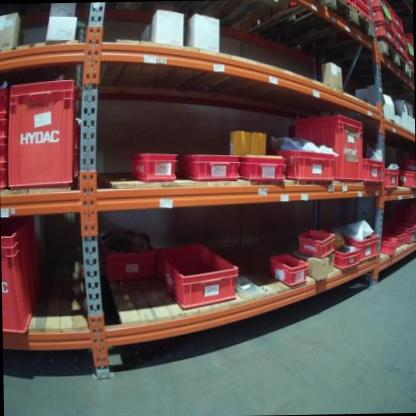pallet: (232, 0, 378, 58), (287, 37, 410, 81), (171, 0, 329, 34), (409, 65, 413, 88)
small_load_carrier: (6, 77, 82, 188), (156, 234, 239, 308), (293, 111, 364, 187), (1, 211, 43, 335), (99, 226, 161, 284), (274, 145, 336, 183), (177, 152, 240, 183), (338, 225, 380, 265), (237, 153, 290, 183), (128, 153, 177, 182), (269, 251, 307, 285), (296, 230, 336, 258), (332, 240, 362, 272), (393, 205, 416, 241), (362, 153, 384, 185), (371, 24, 397, 51), (380, 223, 407, 248), (394, 216, 416, 244), (371, 6, 394, 32), (380, 233, 398, 261), (356, 3, 374, 27), (383, 166, 400, 191), (368, 0, 393, 15), (399, 153, 415, 175), (400, 168, 415, 191), (394, 7, 405, 34), (0, 86, 10, 115), (393, 41, 405, 65), (0, 142, 11, 166), (0, 113, 9, 142), (396, 29, 408, 48), (1, 167, 10, 190), (345, 0, 355, 14), (357, 0, 371, 10), (408, 54, 412, 71)
